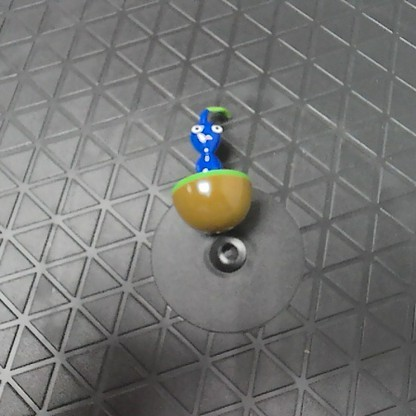leafairy: (167, 103, 253, 236)
